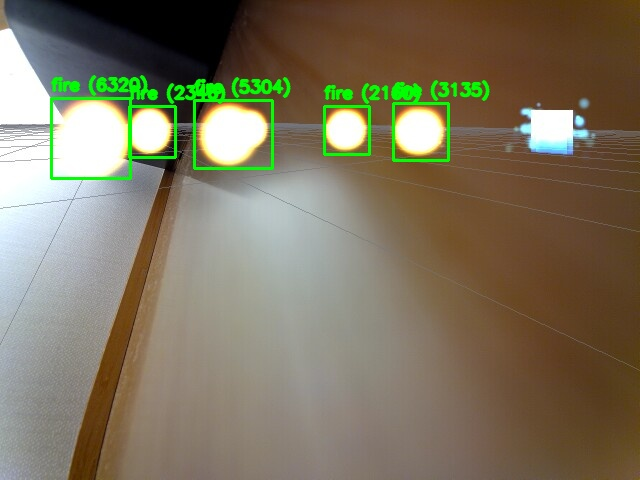fire: (51, 98, 130, 178), (194, 100, 272, 168), (393, 103, 448, 160), (129, 106, 175, 157), (324, 106, 369, 154)
